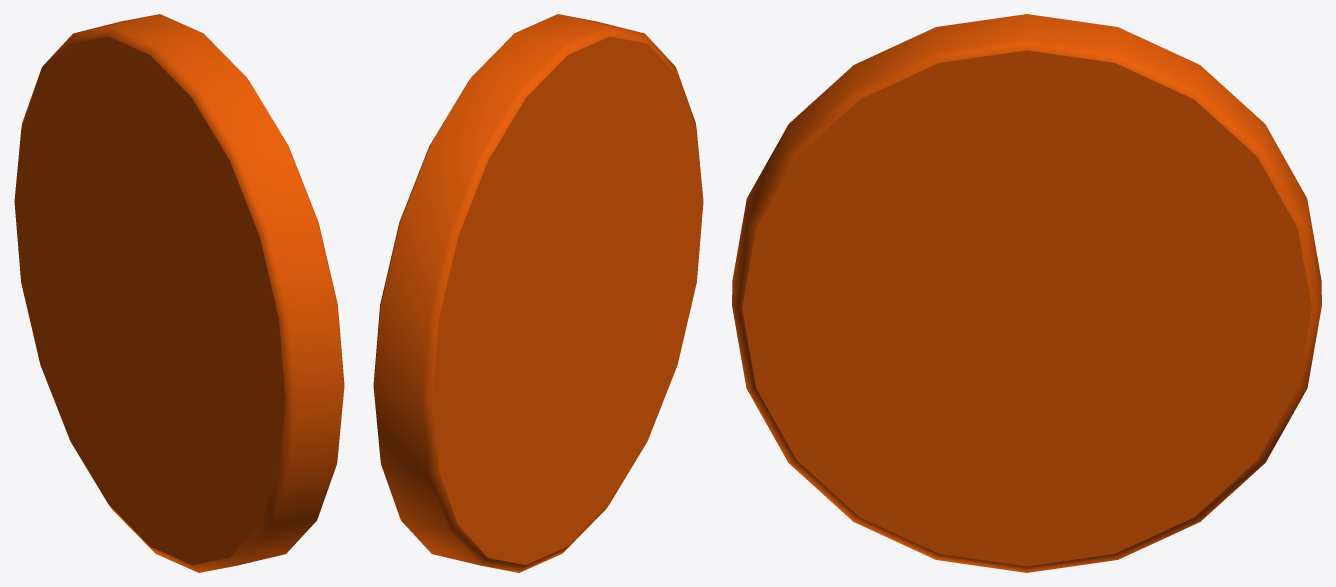
File: Acces_Board_C.fbx
3 views of the same model, side by side, from view 1: azimuth 30°, elevation 25°; view 2: azimuth 150°, elevation 25°; view 3: azimuth 270°, elevation 25° (orthographic). The views are drawn at different scales.
Parts seen in each view (by area): view 1: Acces_Board_C; view 2: Acces_Board_C; view 3: Acces_Board_C.
Part boxes in pixels (bbox=[...]): Acces_Board_C: bbox=[14, 14, 344, 572]; Acces_Board_C: bbox=[373, 14, 703, 572]; Acces_Board_C: bbox=[732, 14, 1321, 572].
Size of the model in its own units: 0.6708 by 5.54 by 5.54.
